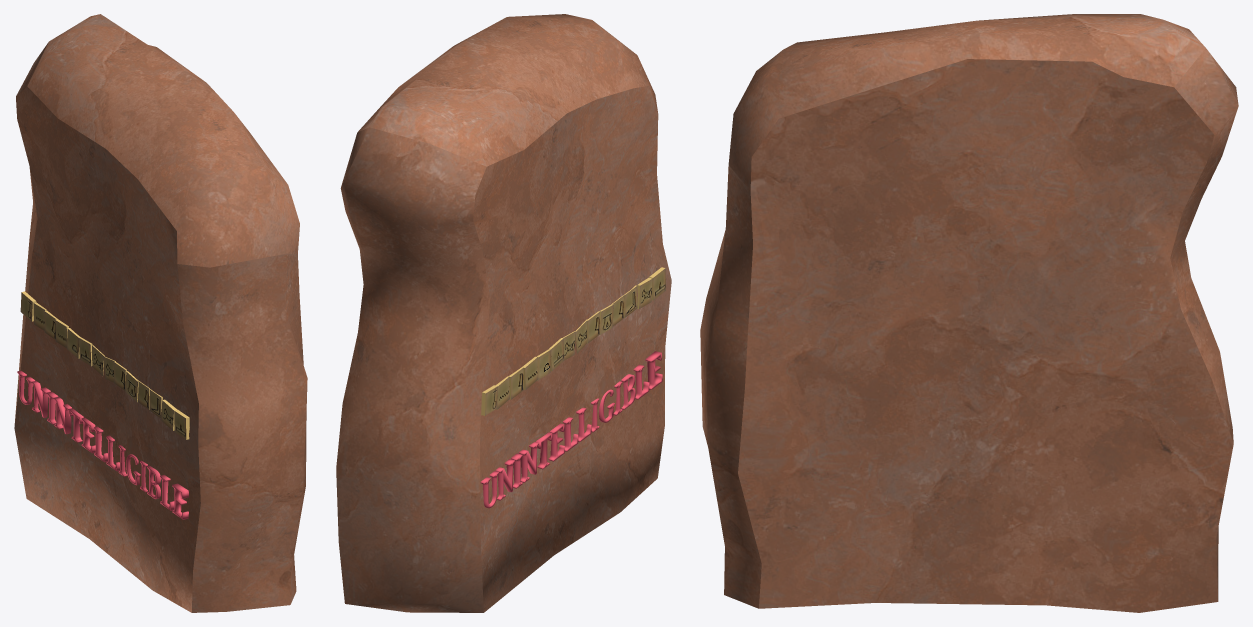
Rendered from MonoliteIntellegibile.fbx.
3 views of the same model, side by side, from view 1: azimuth 30°, elevation 25°; view 2: azimuth 150°, elevation 25°; view 3: azimuth 270°, elevation 25° (orthographic). The views are drawn at different scales.
Visible parts, largest first — view 1: prim15, prim0; view 2: prim15, prim0; view 3: prim15.
Part boxes in pixels (bbox=[...]): prim15: bbox=[14, 14, 307, 612]; prim0: bbox=[17, 370, 188, 519]; prim15: bbox=[336, 14, 671, 612]; prim0: bbox=[480, 351, 662, 508]; prim15: bbox=[700, 14, 1238, 612].
Bounding box in the file's own units: 48.38 × 181 × 156.
Materials: 11 (9 with a texture image).
